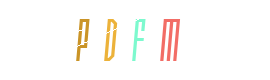D: (95, 0, 175, 80)
F: (97, 0, 177, 80)
M: (120, 0, 200, 80)
P: (57, 0, 137, 80)
